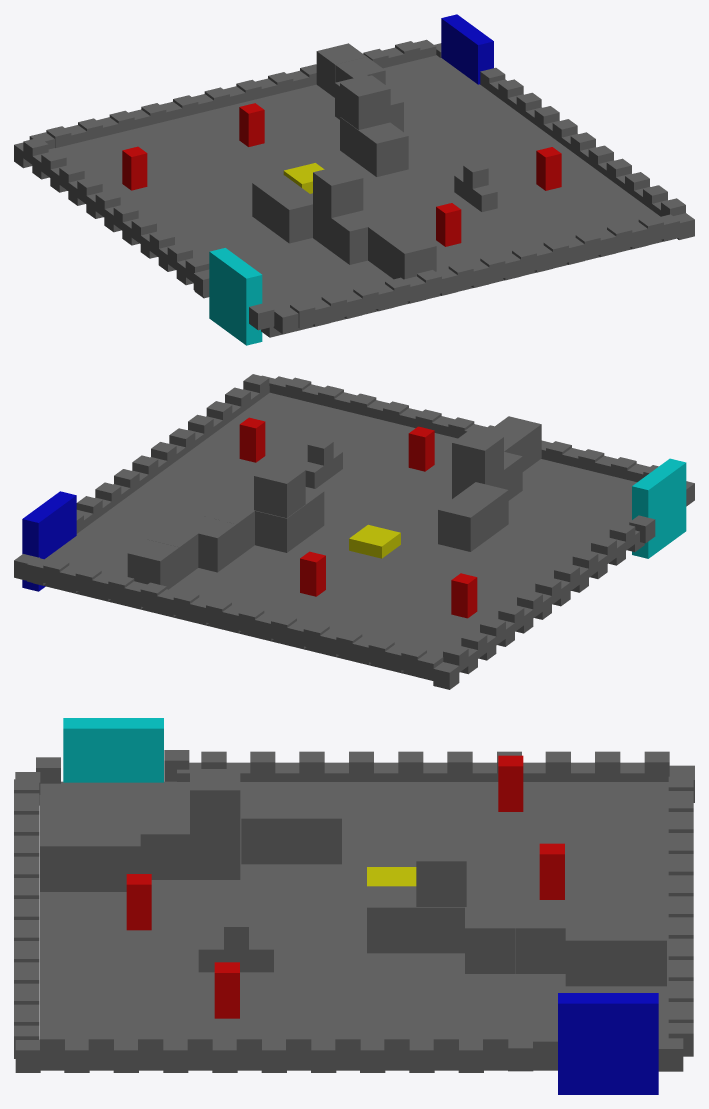
The model's file is Level1_b4.fbx.
3 renders of one model, top to bottom at view 1: azimuth 30°, elevation 25°; view 2: azimuth 150°, elevation 25°; view 3: azimuth 270°, elevation 25°, orthographic. The views are drawn at different scales.
Visible parts, largest first — view 1: pCube8, pCube55, pCube56, pCube125, pCube126, pCube128, pCube127, pCube124; view 2: pCube8, pCube55, pCube56, pCube124, pCube125, pCube128, pCube126, pCube127; view 3: pCube8, pCube56, pCube55, pCube125, pCube126, pCube127, pCube128, pCube124.
Part boxes in pixels (box(x1,y1,x2,y2)): pCube8: box(14, 39, 694, 337); pCube55: box(209, 248, 262, 345); pCube56: box(441, 14, 493, 84); pCube125: box(536, 147, 561, 190); pCube126: box(436, 203, 461, 246); pCube128: box(122, 146, 147, 190); pCube127: box(239, 103, 264, 146); pCube124: box(283, 163, 324, 193); pCube8: box(14, 374, 694, 689); pCube55: box(632, 458, 686, 558); pCube56: box(22, 491, 76, 591); pCube124: box(349, 524, 400, 558); pCube125: box(239, 417, 265, 462); pCube128: box(451, 573, 477, 618); pCube126: box(408, 426, 434, 471); pCube127: box(300, 551, 325, 596); pCube8: box(14, 750, 694, 1072); pCube56: box(558, 993, 658, 1094); pCube55: box(63, 718, 163, 782); pCube125: box(214, 962, 239, 1018); pCube126: box(126, 874, 151, 930); pCube127: box(539, 843, 564, 899); pCube128: box(498, 755, 523, 811); pCube124: box(367, 867, 416, 886).
Bounding box in the file's own units: 10.77 × 2.24 × 10.64.
